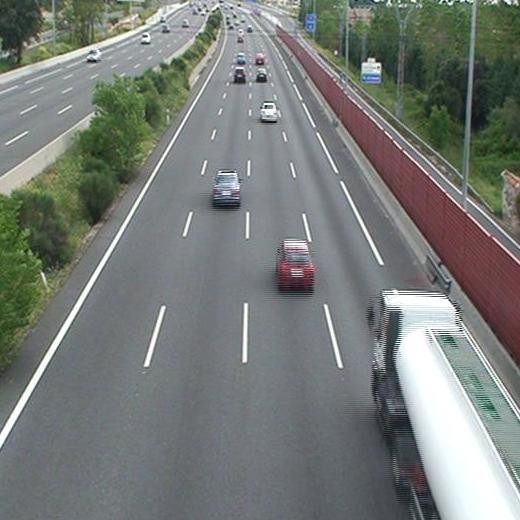car: (277, 240, 313, 285), (212, 171, 240, 204), (261, 103, 278, 121), (256, 68, 268, 80), (233, 68, 245, 79), (255, 53, 266, 63), (237, 53, 246, 63)
tank-truck: (371, 291, 520, 516)
